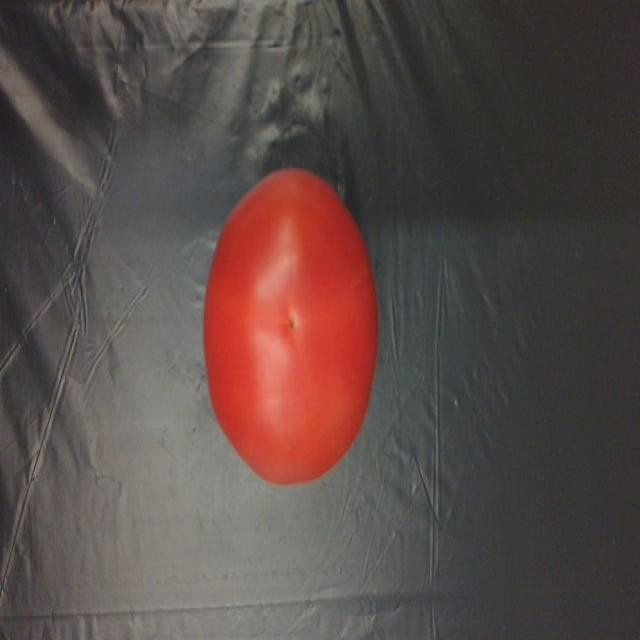kirmizi: (202, 164, 402, 489)
